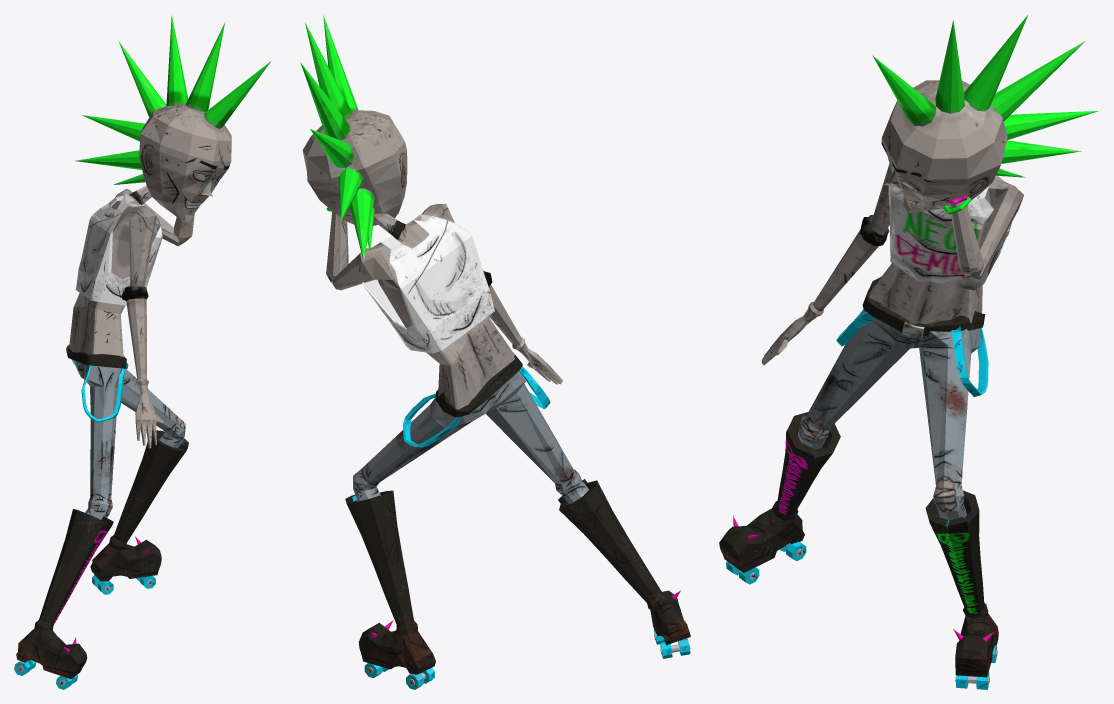
The model's file is punkAnimation_000018.obj.
3 renders of one model, left to right at view 1: azimuth 30°, elevation 25°; view 2: azimuth 150°, elevation 25°; view 3: azimuth 270°, elevation 25°, orthographic. The views are drawn at different scales.
Visible parts, largest first — view 1: Cube.004_Cube.003; view 2: Cube.004_Cube.003; view 3: Cube.004_Cube.003.
Boxes of the visible parts, x1=… form: Cube.004_Cube.003: x1=14, y1=15, x2=270, y2=689; Cube.004_Cube.003: x1=300, y1=15, x2=690, y2=689; Cube.004_Cube.003: x1=719, y1=15, x2=1098, y2=689.
Bounding box in the file's own units: 3.67 × 6.64 × 3.21.
